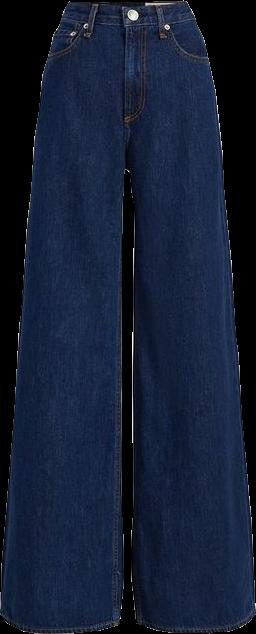Hemline: (0, 607, 121, 633), (136, 609, 255, 633)
Pantleg: (124, 1, 255, 631), (1, 2, 124, 633)
Waistline: (61, 13, 194, 32), (66, 0, 183, 11)
